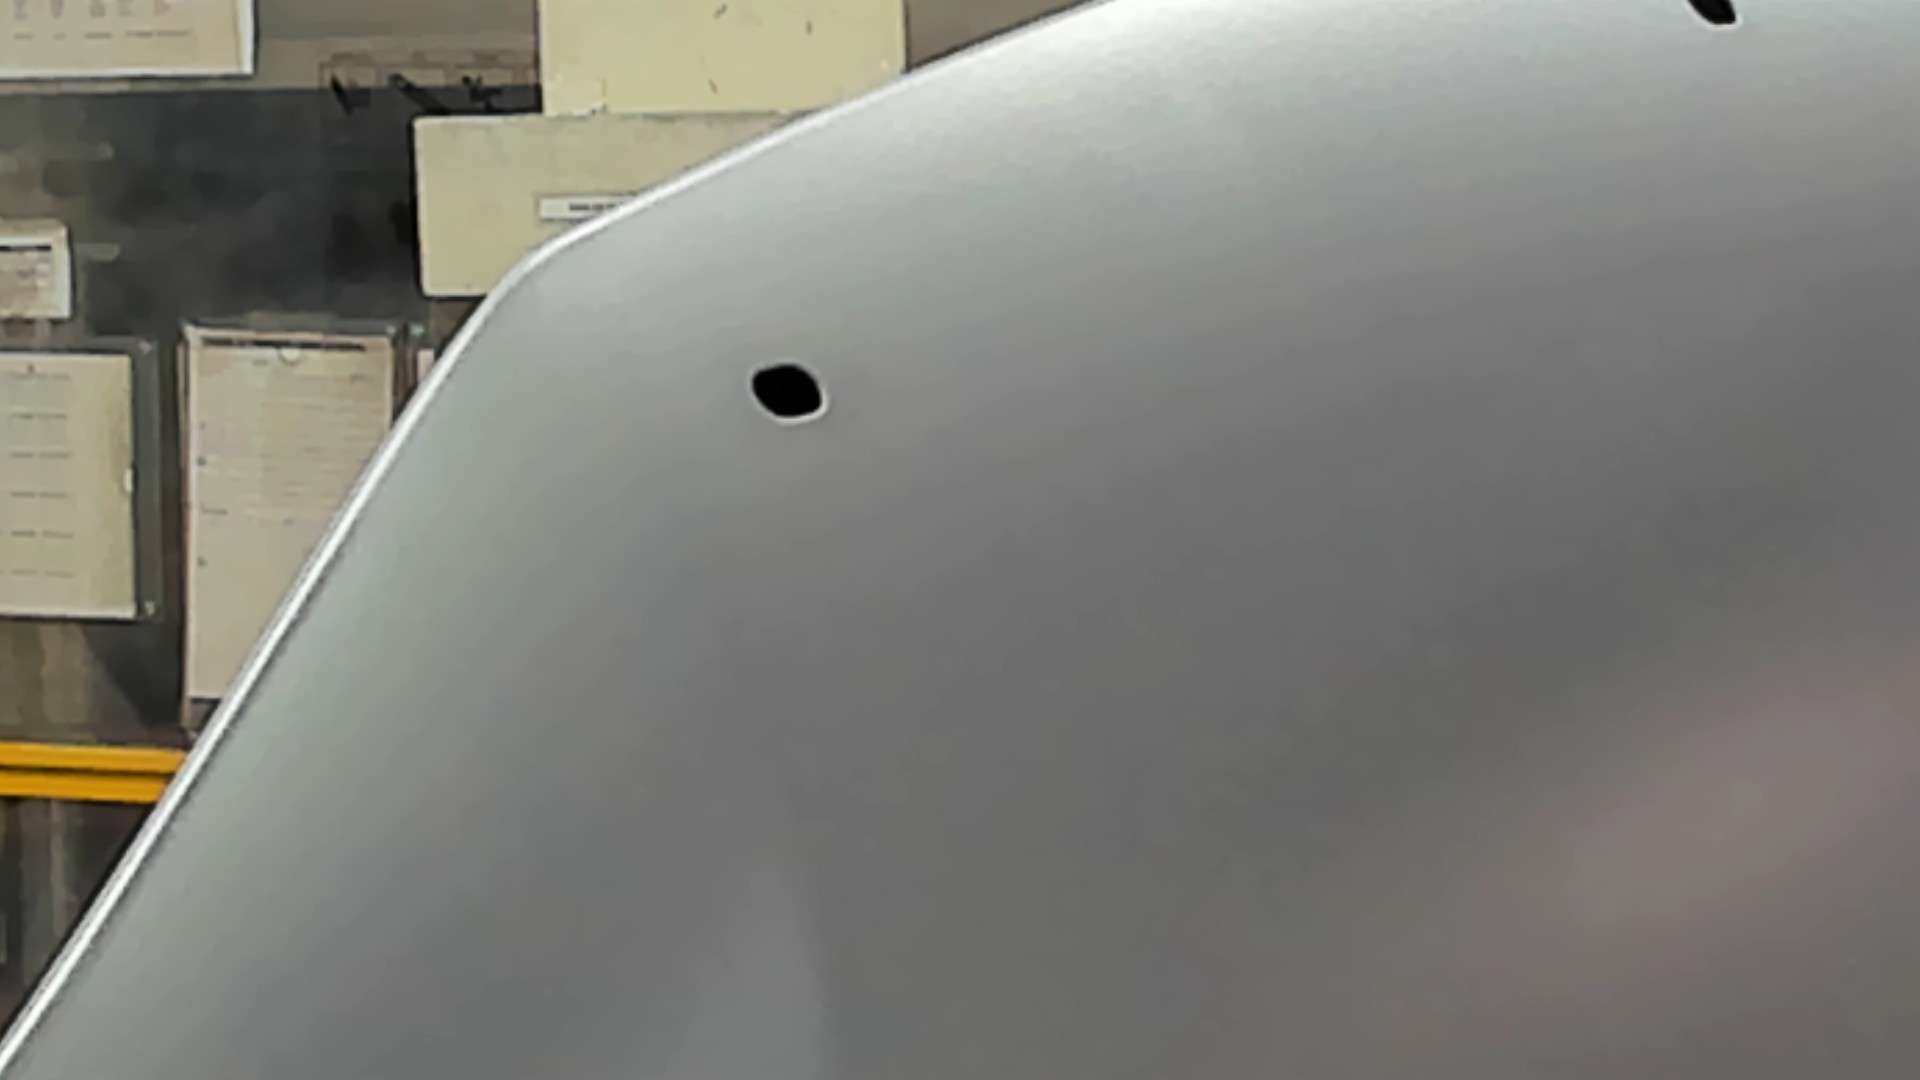amorfo: (746, 359, 829, 427), (1689, 1, 1749, 36)
